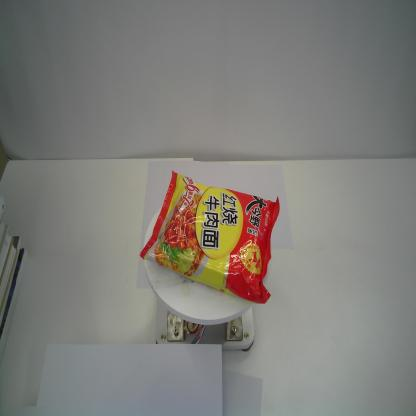Instant Noodles: (138, 170, 281, 304)
